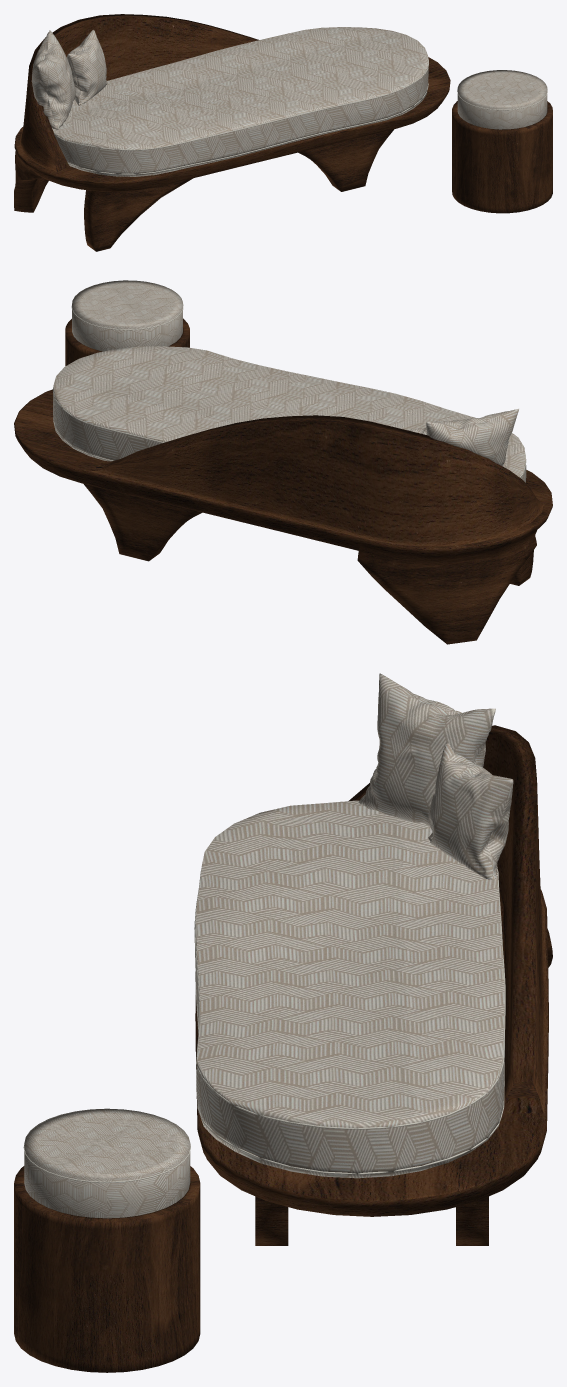
The model's file is chaise.glb.
The picture shows the model from 3 angles, top to bottom: view 1: azimuth 30°, elevation 25°; view 2: azimuth 150°, elevation 25°; view 3: azimuth 270°, elevation 25°; orthographic projection. The views are drawn at different scales.
Parts seen in each view (by area): view 1: Sofa Mattress, back, stool, soda_table, Pouf, leg_1, pillow, leg_2, pillow_1, leg_3, Sofa Mattress strip; view 2: back, Sofa Mattress, soda_table, leg_3, Pouf, leg_2, pillow, stool; view 3: Sofa Mattress, stool, soda_table, Pouf, back, pillow, pillow_1, leg_2, Sofa Mattress strip.
Part boxes in pixels (left/top/right/bottom): Sofa Mattress: left=52, top=27, right=428, bottom=176; back: left=20, top=14, right=258, bottom=171; stool: left=452, top=101, right=552, bottom=213; soda_table: left=14, top=57, right=450, bottom=191; Pouf: left=457, top=70, right=547, bottom=129; leg_1: left=84, top=178, right=192, bottom=251; pillow: left=31, top=30, right=75, bottom=129; leg_2: left=298, top=129, right=393, bottom=191; pillow_1: left=67, top=29, right=107, bottom=105; leg_3: left=14, top=151, right=48, bottom=212; Sofa Mattress strip: left=55, top=59, right=428, bottom=174; back: left=91, top=415, right=544, bottom=546; Sofa Mattress: left=53, top=346, right=526, bottom=482; soda_table: left=14, top=389, right=552, bottom=556; leg_3: left=357, top=530, right=536, bottom=644; Pouf: left=72, top=280, right=182, bottom=351; leg_2: left=84, top=484, right=201, bottom=561; pillow: left=426, top=409, right=518, bottom=468; stool: left=65, top=318, right=189, bottom=365; Sofa Mattress: left=194, top=800, right=504, bottom=1178; stool: left=14, top=1166, right=200, bottom=1372; soda_table: left=195, top=889, right=548, bottom=1216; Pouf: left=24, top=1108, right=190, bottom=1218; back: left=349, top=725, right=546, bottom=1113; pillow: left=358, top=673, right=495, bottom=826; pillow_1: left=428, top=742, right=513, bottom=879; leg_2: left=255, top=1196, right=488, bottom=1245; Sofa Mattress strip: left=194, top=869, right=505, bottom=1174.
Bounding box in the file's own units: 3.1 × 1.12 × 1.76.
Materials: 2 (2 with a texture image).
